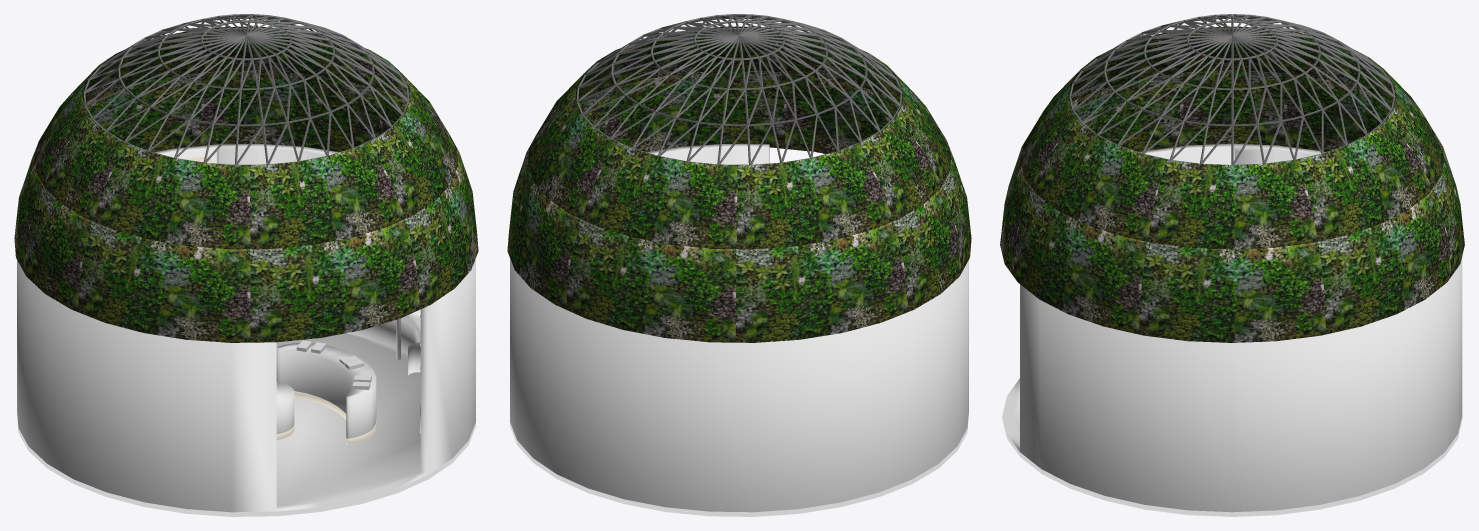
The model's file is PopCylindre.glb.
3 renders of one model, left to right at view 1: azimuth 30°, elevation 25°; view 2: azimuth 150°, elevation 25°; view 3: azimuth 270°, elevation 25°, orthographic.
Parts seen in each view (by area): view 1: Sphere, Circle.001, Sphere.001, Circle.003, Circle, Circle.006, Circle.004, Circle.005; view 2: Sphere, Circle.001, Sphere.001, Circle; view 3: Sphere, Circle.001, Sphere.001, Circle.
Boxes of the visible parts, box(x1,y1,x2,y2) form: Sphere: box(14, 26, 478, 342); Circle.001: box(17, 143, 475, 512); Sphere.001: box(83, 14, 409, 165); Circle.003: box(276, 343, 376, 444); Circle: box(17, 412, 475, 516); Circle.006: box(346, 318, 417, 359); Circle.004: box(276, 381, 294, 440); Circle.005: box(408, 309, 420, 433); Sphere: box(507, 26, 971, 342); Circle.001: box(510, 143, 968, 512); Sphere.001: box(576, 14, 902, 165); Circle: box(510, 412, 968, 516); Sphere: box(1000, 26, 1464, 342); Circle.001: box(1002, 143, 1462, 512); Sphere.001: box(1069, 14, 1395, 165); Circle: box(1002, 416, 1462, 516).
Size of the model in its own units: 0.9282 by 0.847 by 0.9282.
Materials: 4 (2 with a texture image).
